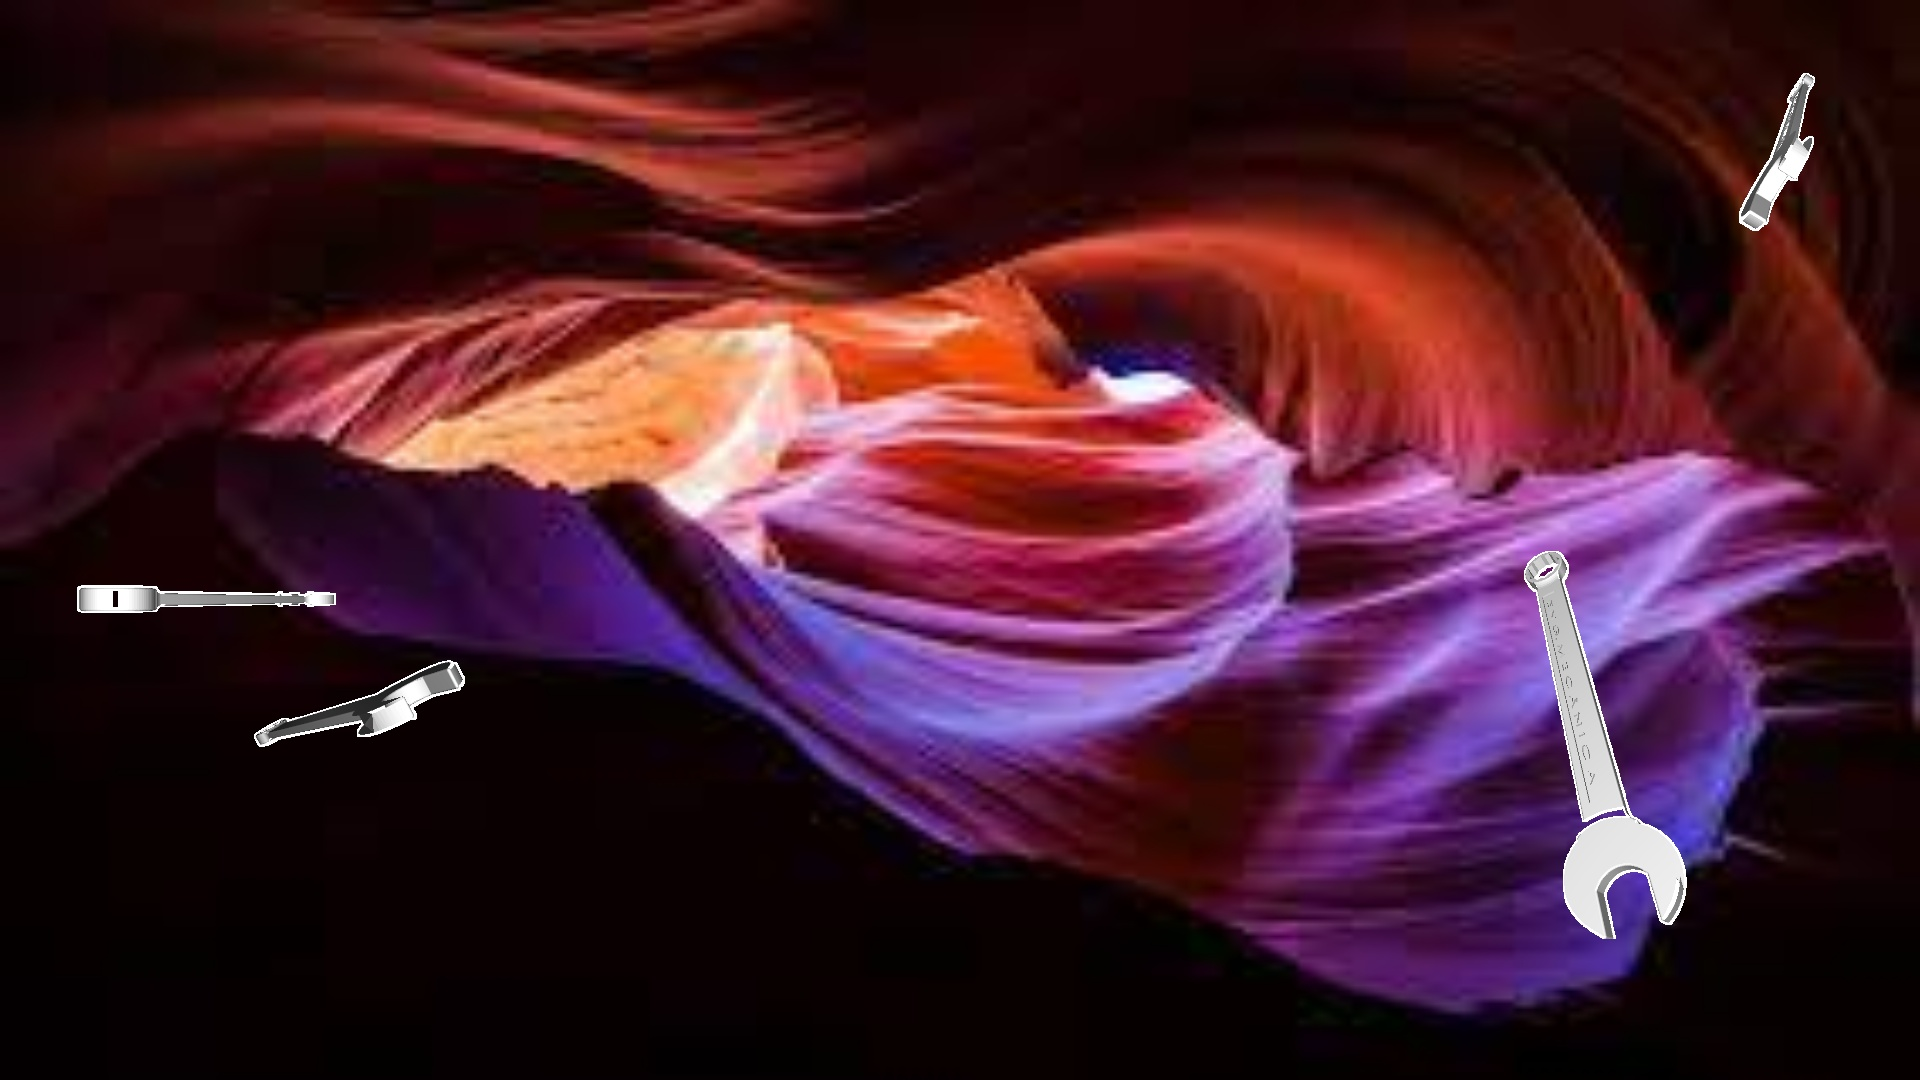Mixed Key: (1524, 551, 1687, 938), (255, 661, 464, 746), (1739, 73, 1815, 229), (76, 585, 335, 612)
